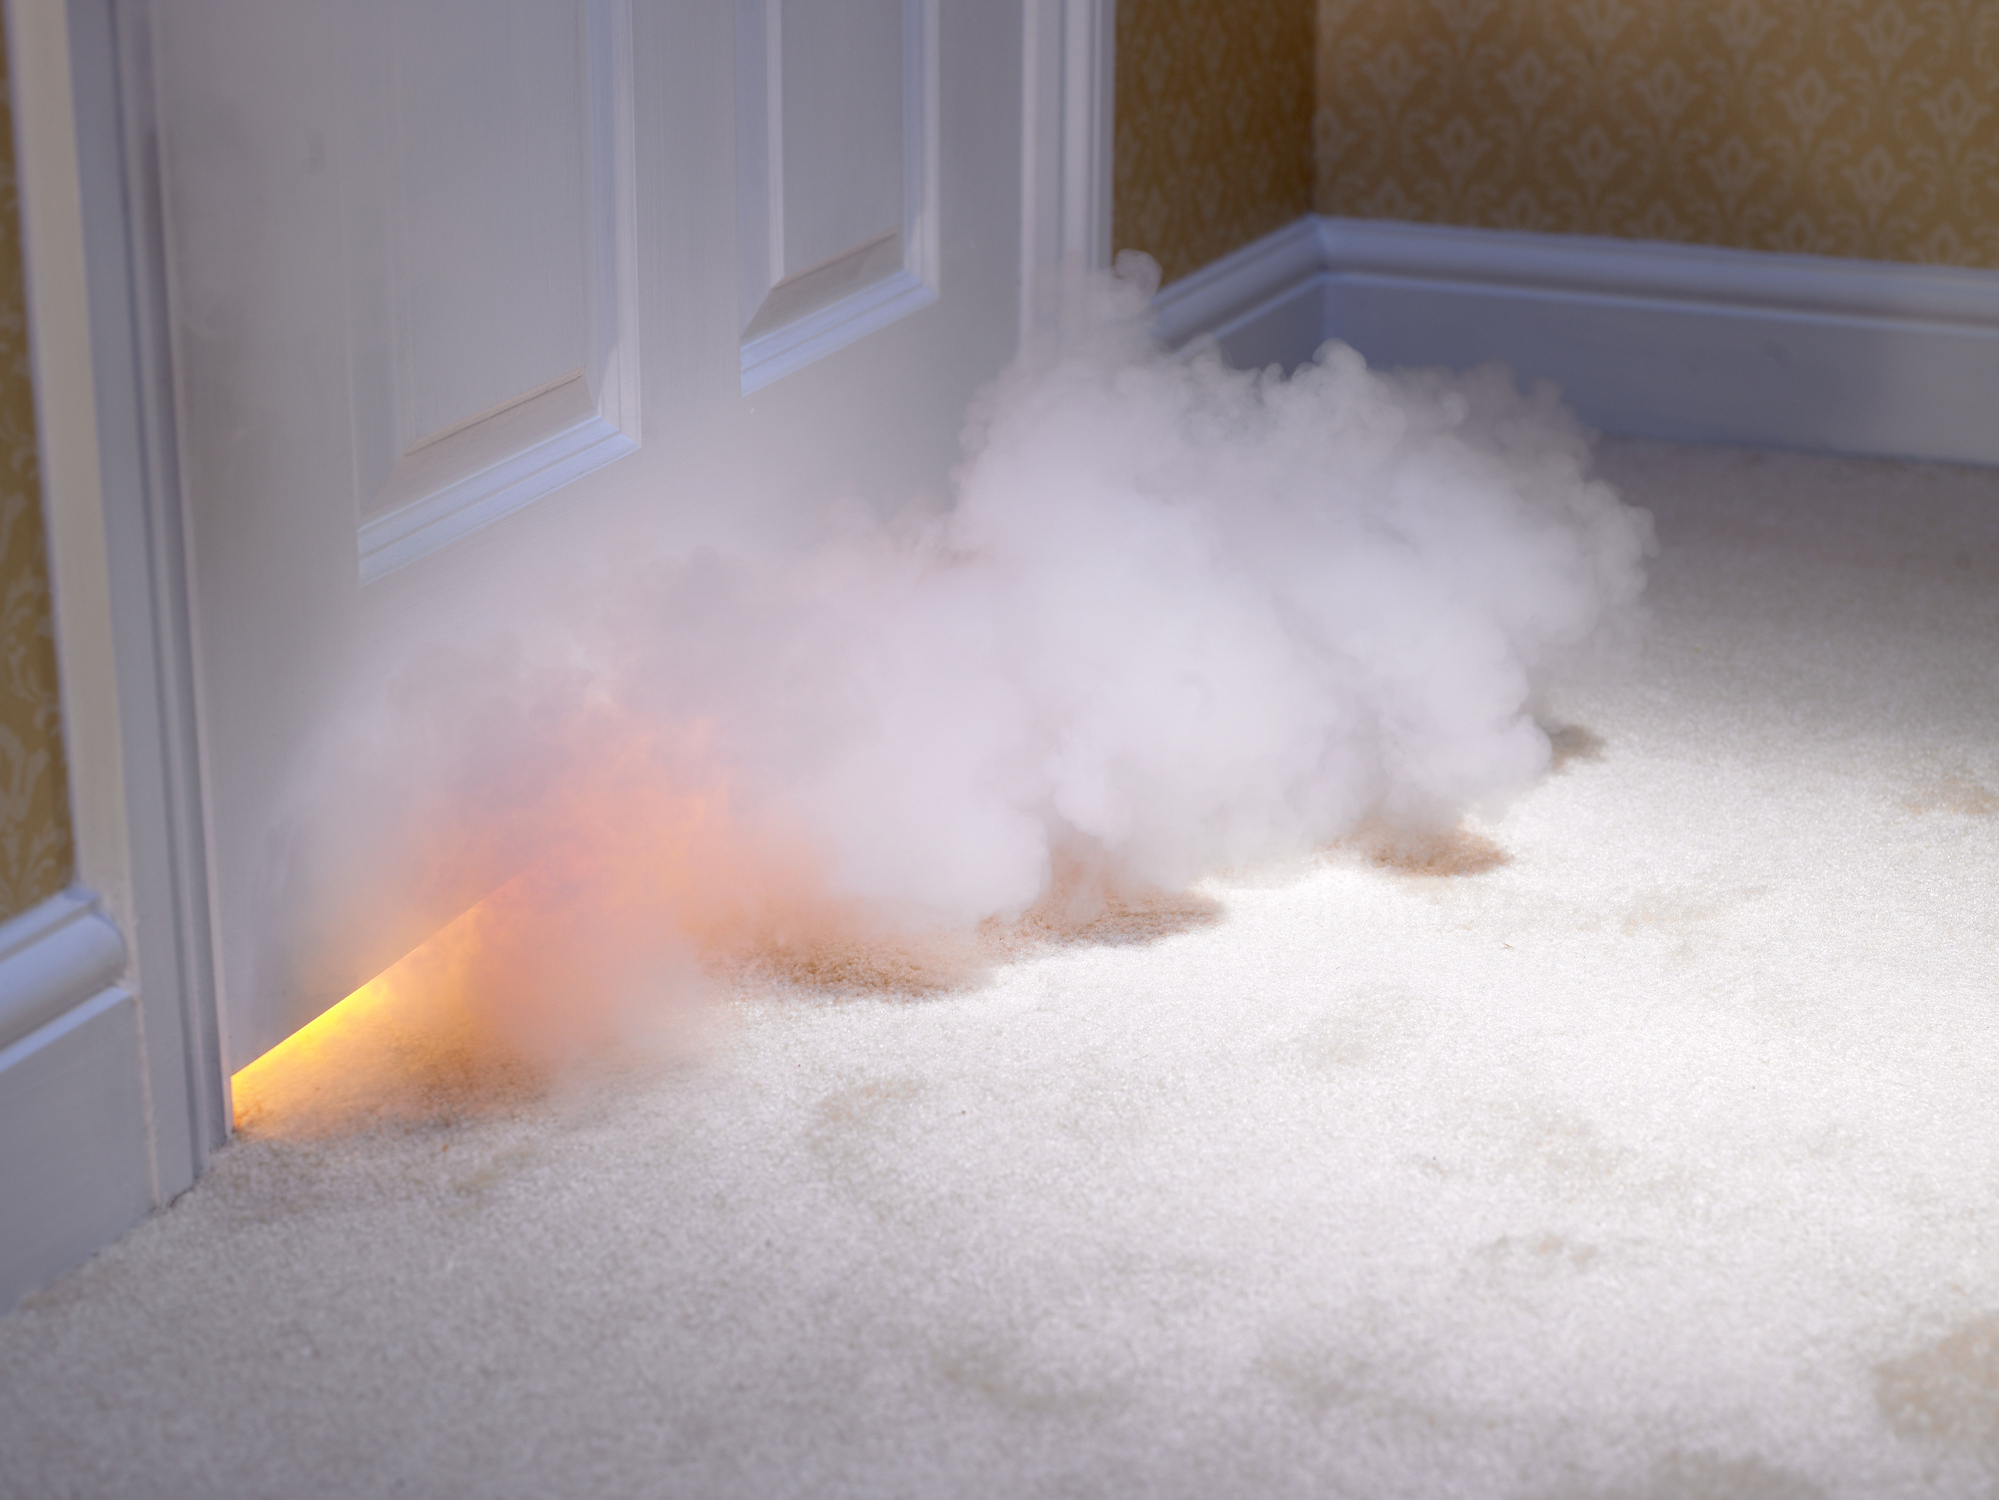smoke: (191, 221, 1719, 1120)
